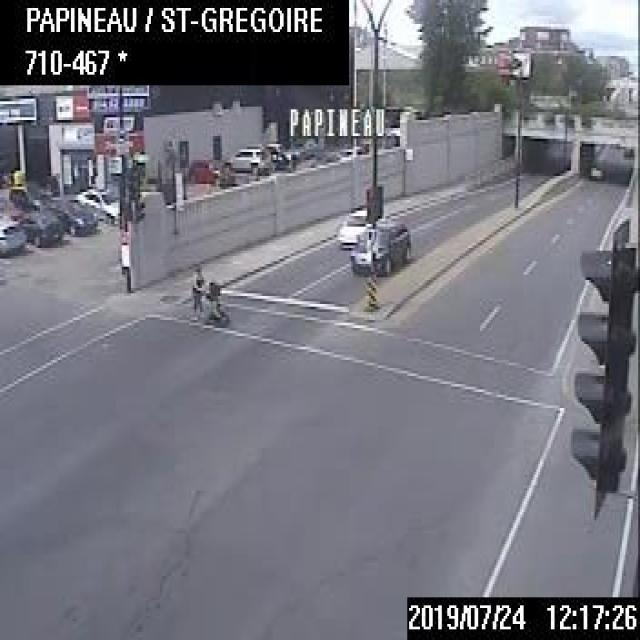pedestrian: (188, 261, 225, 323)
vehicle: (347, 213, 407, 274), (17, 202, 65, 248), (49, 196, 100, 239), (75, 185, 119, 229), (0, 211, 29, 261), (337, 204, 368, 247), (227, 142, 266, 176), (184, 154, 222, 186), (586, 163, 606, 182)
